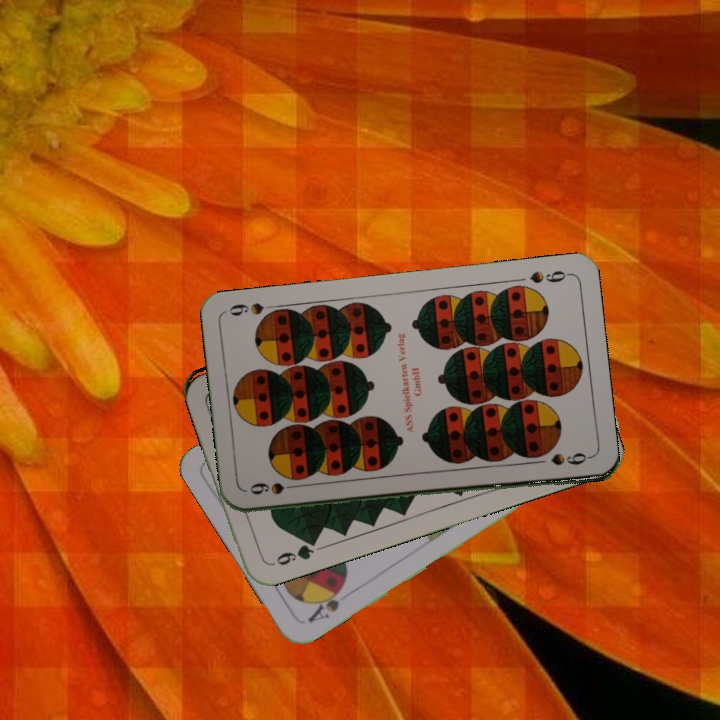G9: (266, 534, 320, 569)
S9: (245, 479, 304, 497), (525, 266, 573, 286)
SA: (303, 580, 348, 626)
